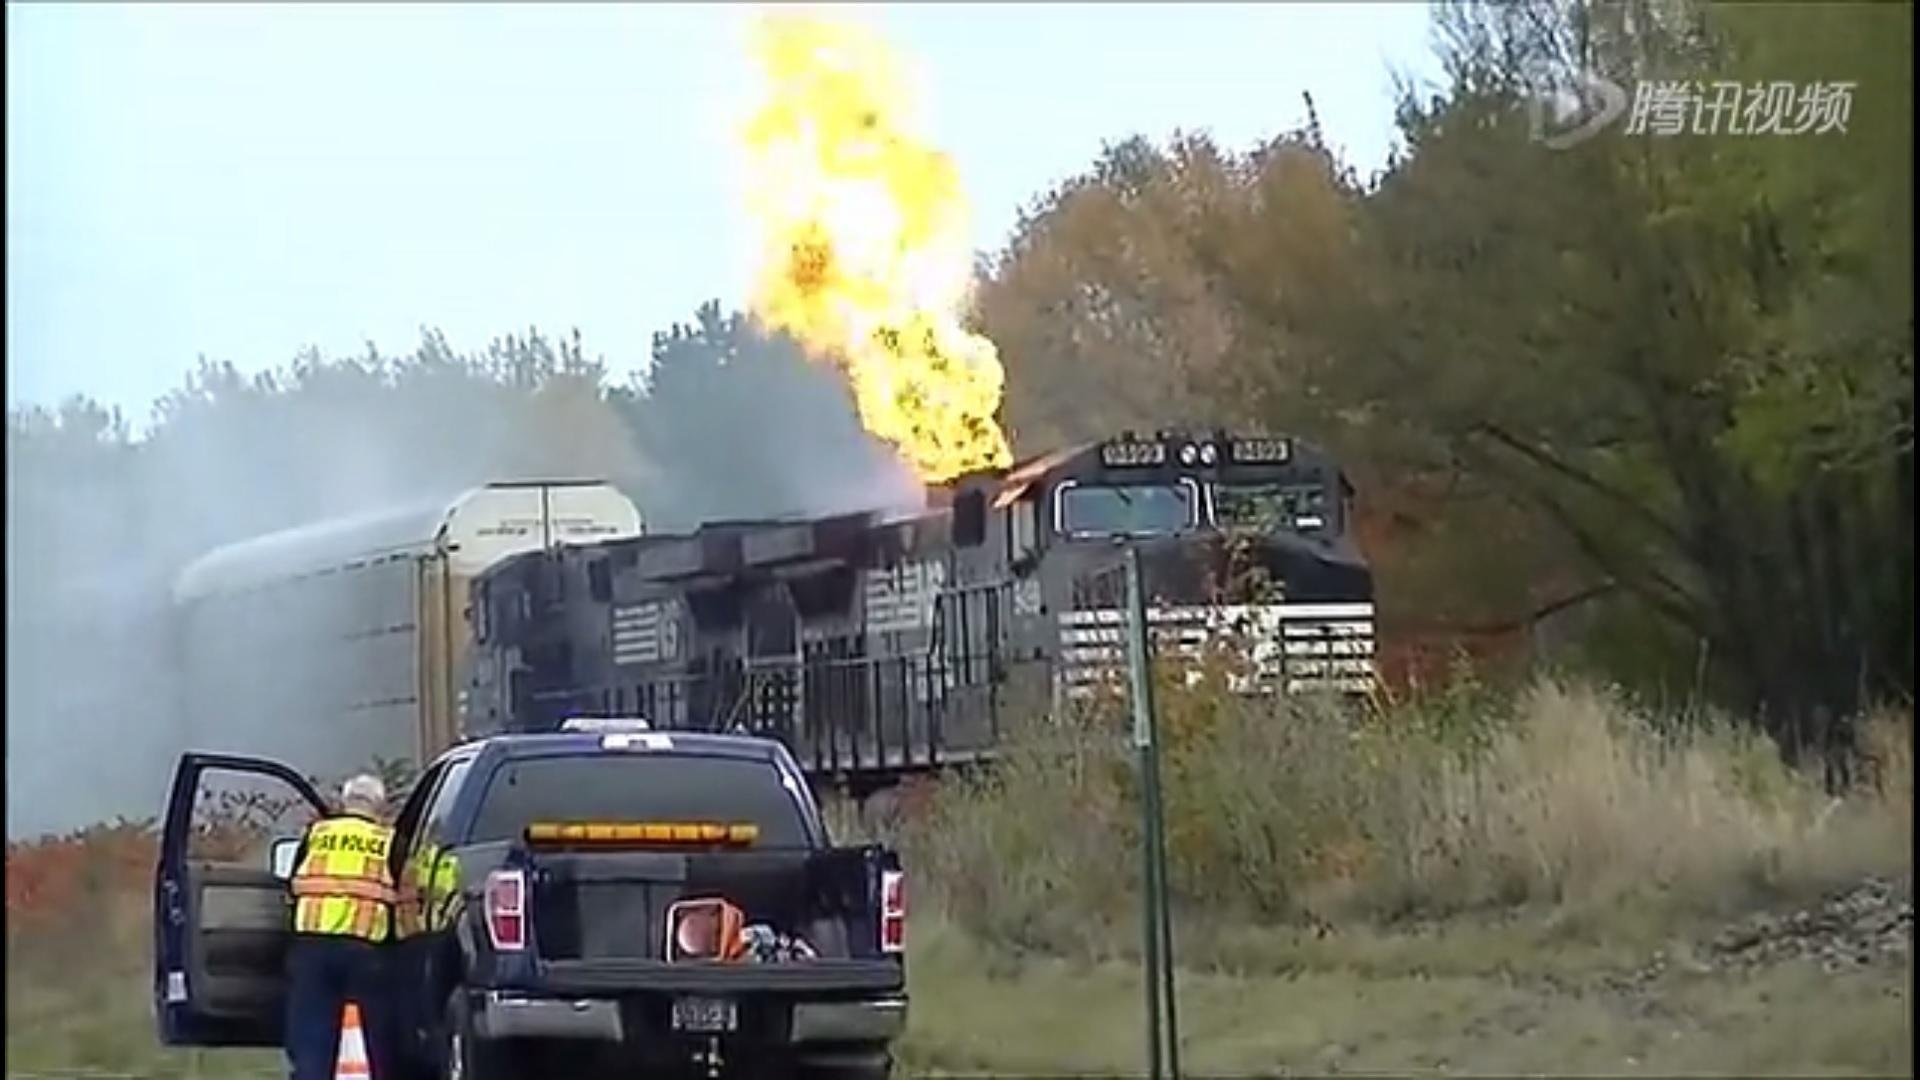fire: (731, 3, 1021, 491)
